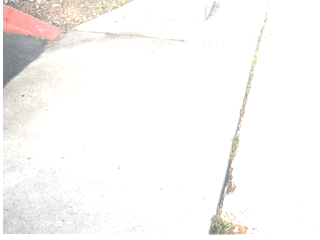Edge: (3, 3, 59, 41)
